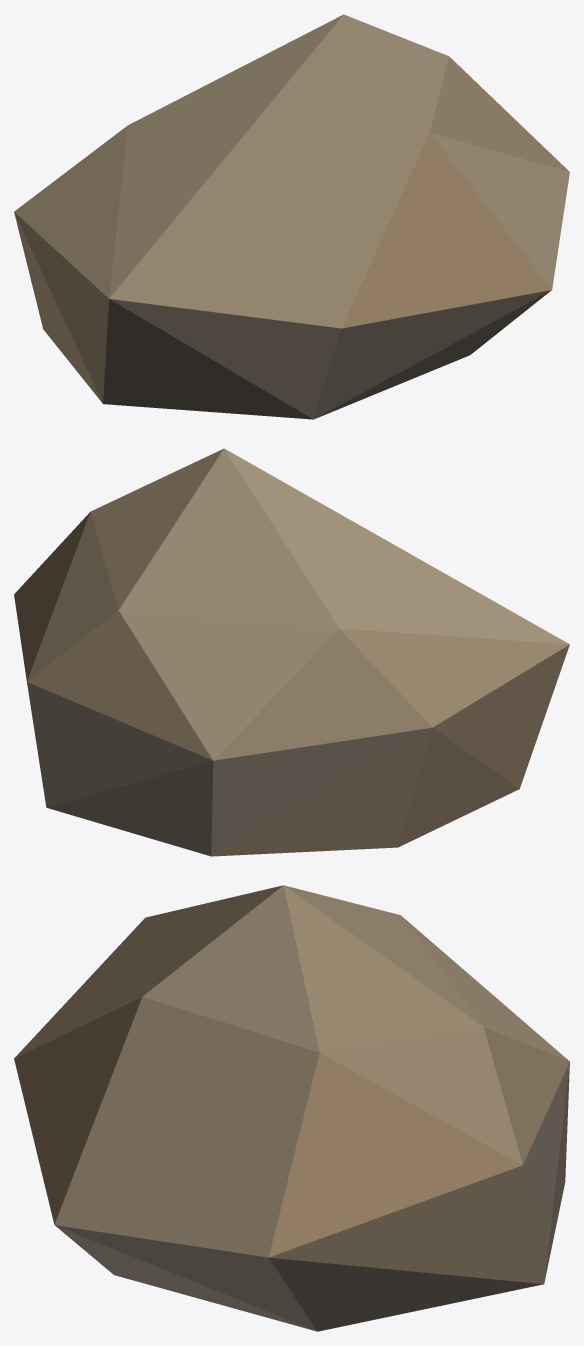
3 views of the same model, one above another, from view 1: azimuth 30°, elevation 25°; view 2: azimuth 150°, elevation 25°; view 3: azimuth 270°, elevation 25° (orthographic). The views are drawn at different scales.
Visible parts, largest first — view 1: r01; view 2: r01; view 3: r01.
Part boxes in pixels (left/top/right/bottom): r01: left=14, top=14, right=569, bottom=419; r01: left=14, top=448, right=569, bottom=856; r01: left=14, top=885, right=569, bottom=1331.
Size of the model in its own units: 0.48 by 0.27 by 0.38.
